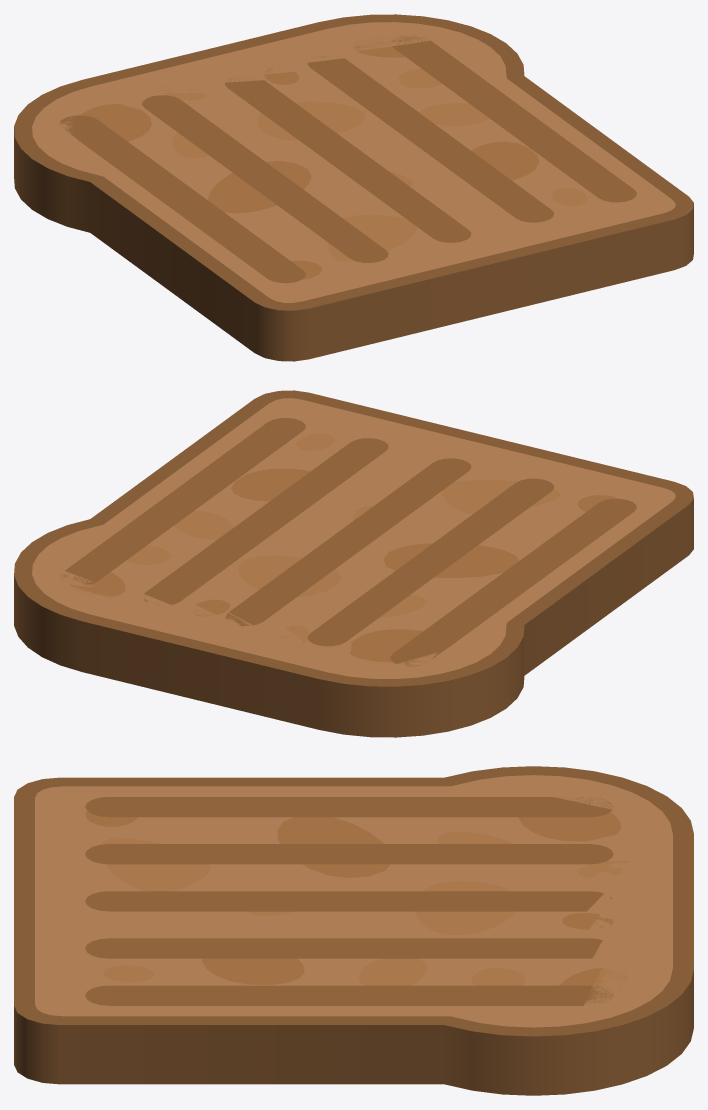
File: Bread E.fbx
3 renders of one model, top to bottom at view 1: azimuth 30°, elevation 25°; view 2: azimuth 150°, elevation 25°; view 3: azimuth 270°, elevation 25°, orthographic. The views are drawn at different scales.
Visible parts, largest first — view 1: Bread E; view 2: Bread E; view 3: Bread E.
Boxes of the visible parts, box(x1,y1,x2,y2) form: Bread E: box(14, 14, 693, 361); Bread E: box(14, 390, 693, 737); Bread E: box(14, 766, 693, 1095).
Size of the model in its own units: 0.6767 by 0.0692 by 0.7193.
